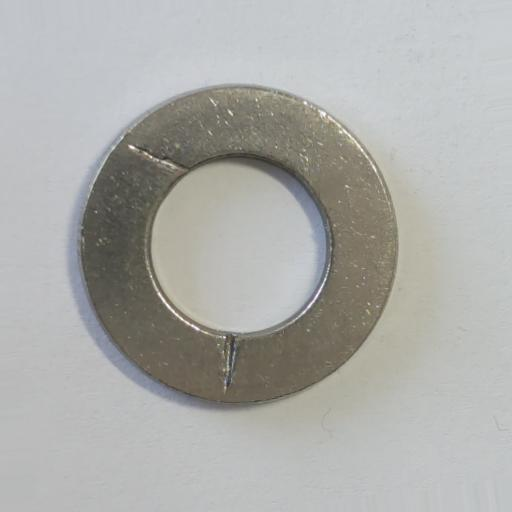scratch: (128, 145, 187, 175), (221, 336, 241, 390)
